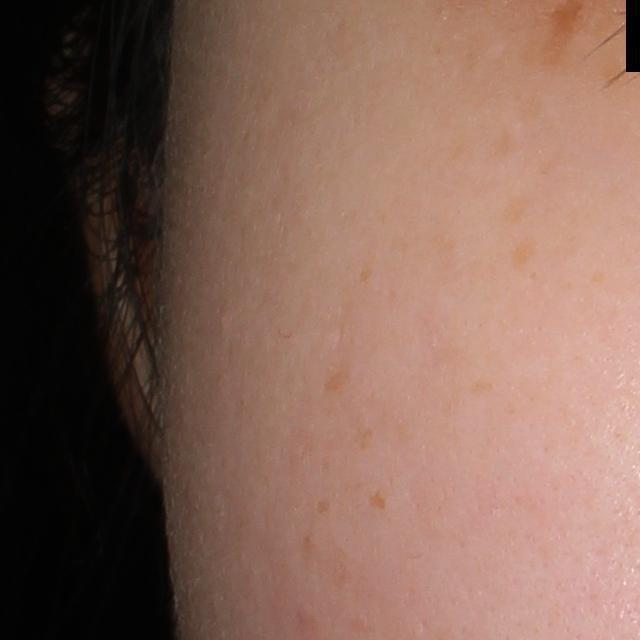melasma: (317, 365, 359, 398), (506, 233, 538, 276), (496, 190, 532, 228), (492, 126, 523, 162), (351, 420, 378, 452), (465, 376, 496, 397), (366, 490, 389, 513), (356, 263, 374, 289), (315, 498, 336, 516)
